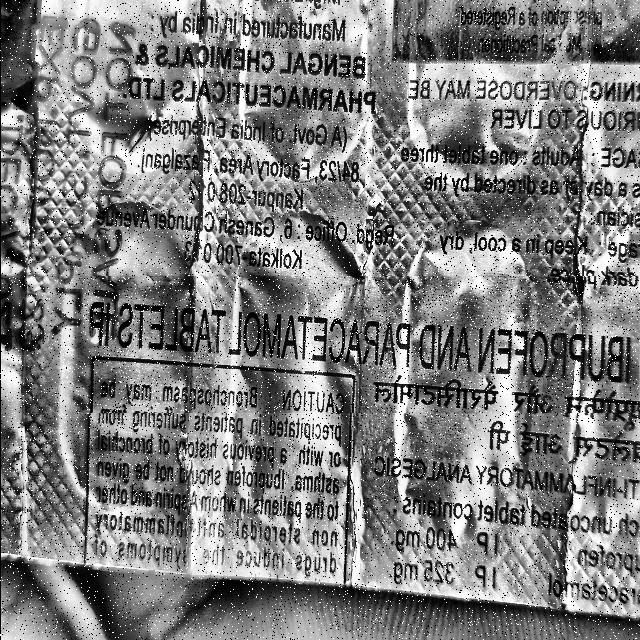IBUPROFEN AND PARACETAMOL TABLETS: (78, 276, 637, 412)
